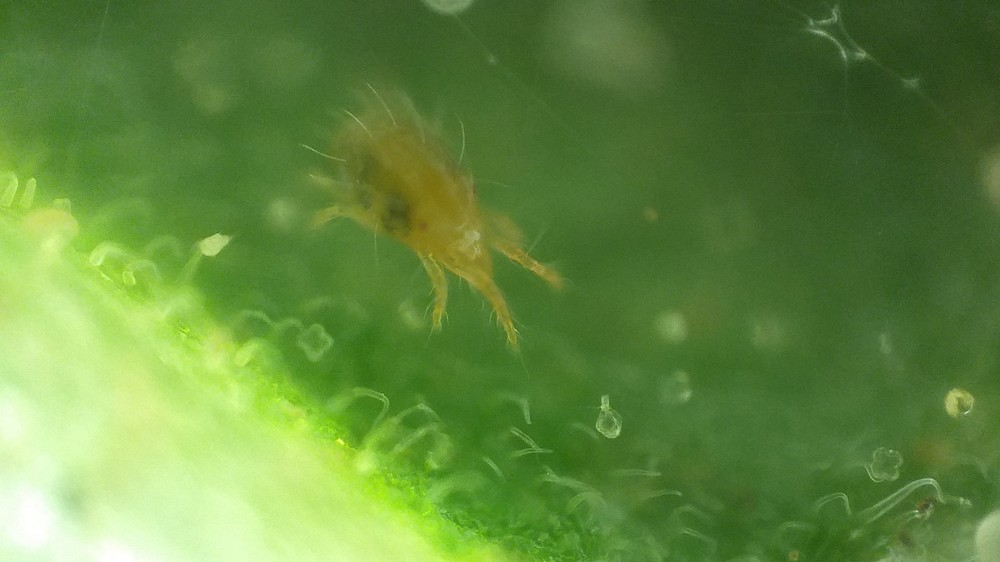Aracnido Rojo: (304, 84, 589, 366)
